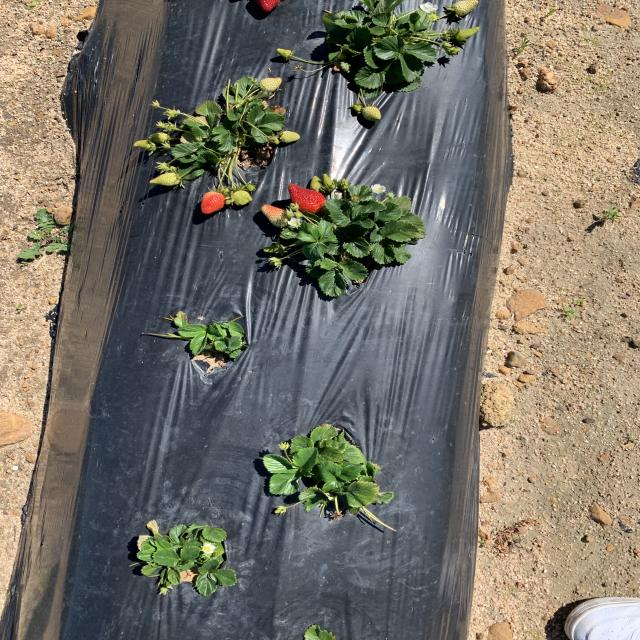unripe: (289, 184, 326, 214), (201, 192, 226, 214), (257, 0, 278, 16)
